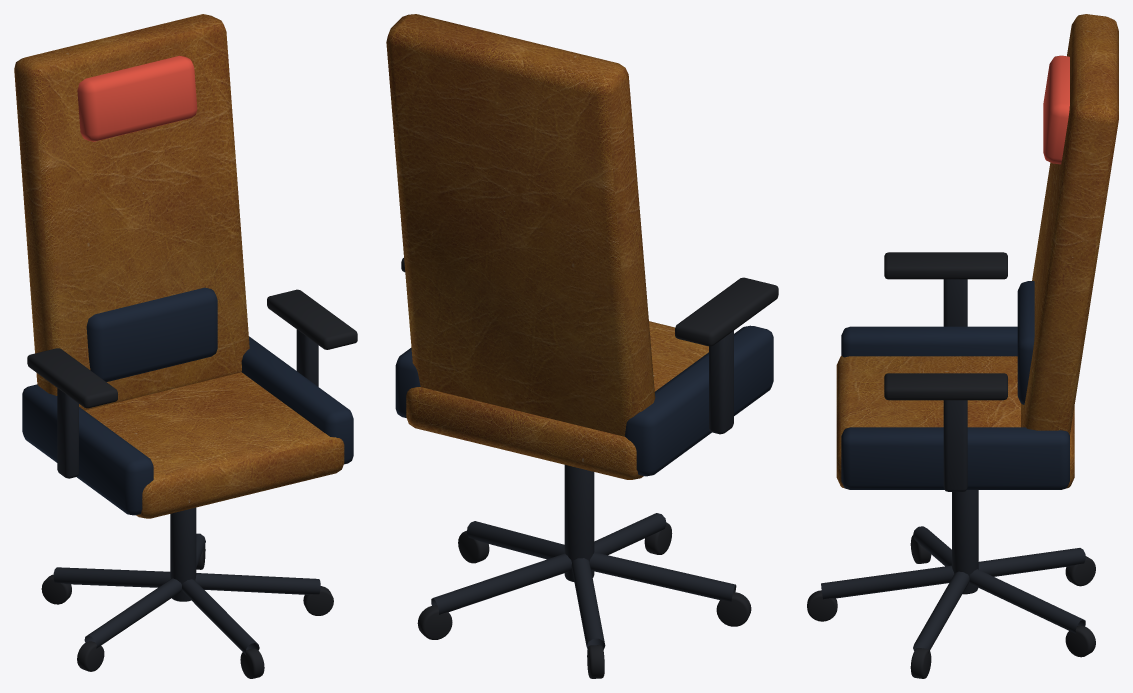
Rendered from chair_ergo_gaming-0ddb3c7349db.glb.
3 views of the same model, side by side, from view 1: azimuth 30°, elevation 25°; view 2: azimuth 150°, elevation 25°; view 3: azimuth 270°, elevation 25° (orthographic). The views are drawn at different scales.
Parts seen in each view (by area): view 1: High_Backrest, Bolster_Seat_-0.25, Gas_Cylinder, Wheel_0, Head_Pillow; view 2: High_Backrest, Gas_Cylinder, Bolster_Seat_-0.25, Wheel_0; view 3: High_Backrest, Bolster_Seat_-0.25, Gas_Cylinder, Wheel_0, Head_Pillow.
Boxes of the visible parts, <box> form: High_Backrest: <box>14,14,344,518</box>; Bolster_Seat_-0.25: <box>22,287,353,515</box>; Gas_Cylinder: <box>53,329,320,654</box>; Wheel_0: <box>27,289,357,678</box>; Head_Pillow: <box>77,55,197,141</box>; High_Backrest: <box>386,14,708,479</box>; Gas_Cylinder: <box>431,331,736,650</box>; Bolster_Seat_-0.25: <box>395,325,773,476</box>; Wheel_0: <box>401,258,778,678</box>; High_Backrest: <box>836,14,1118,488</box>; Bolster_Seat_-0.25: <box>841,281,1069,489</box>; Gas_Cylinder: <box>821,279,1085,653</box>; Wheel_0: <box>807,252,1095,678</box>; Head_Pillow: <box>1043,55,1069,164</box>.
Size of the model in its own units: 0.685 by 1.3 by 0.6547.
5 materials, 1 textured.
